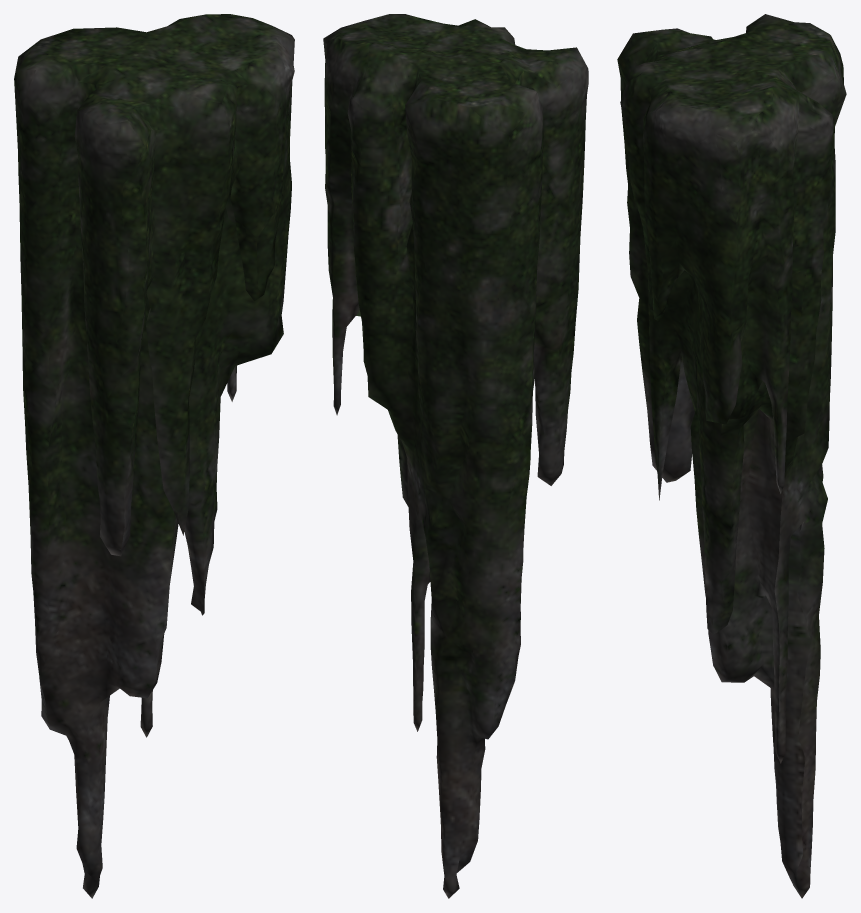
File: MossRockTopB.fbx
The picture shows the model from 3 angles, left to right: view 1: azimuth 30°, elevation 25°; view 2: azimuth 150°, elevation 25°; view 3: azimuth 270°, elevation 25°; orthographic projection. The views are drawn at different scales.
Visible parts, largest first — view 1: CaveMossRockTop2; view 2: CaveMossRockTop2; view 3: CaveMossRockTop2.
Boxes of the visible parts, x1,y1,x2,y2 form: CaveMossRockTop2: (14, 14, 294, 898); CaveMossRockTop2: (323, 14, 588, 898); CaveMossRockTop2: (617, 14, 846, 898).
Bounding box in the file's own units: 69.68 × 232 × 56.05.
Materials: 1 (1 with a texture image).
